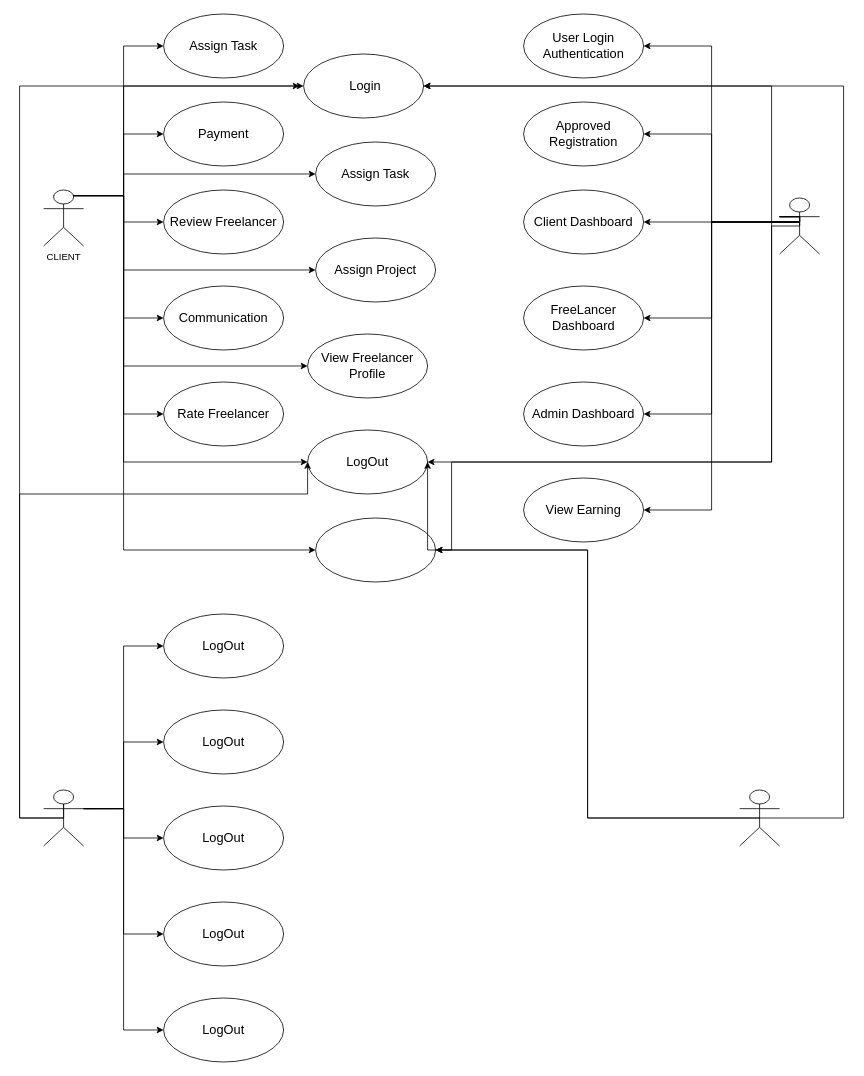
Some shapes in this 864 by 1076 pixel diagram are drawn without their labels. The centre of each missing label's shape, as x and y in pixels:
ADMIN: (x=799, y=225)
FREELANCER: (x=63, y=817)
Register: (x=375, y=549)
Visitor: (x=759, y=817)
